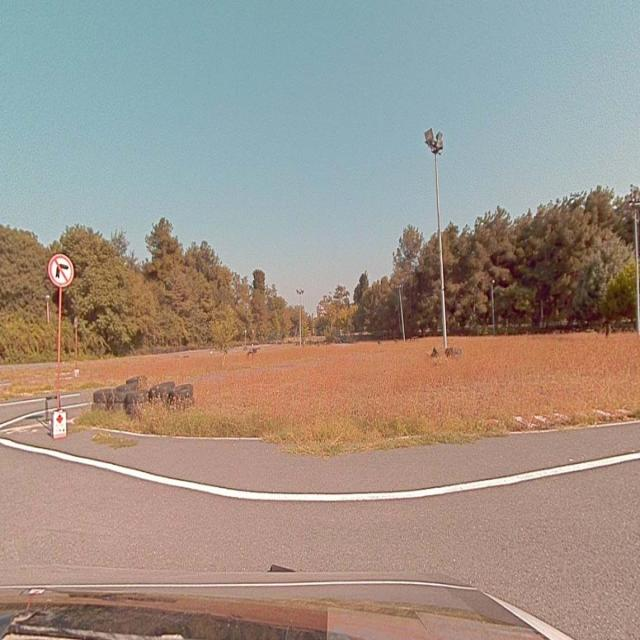sagadonulmez: (50, 254, 73, 286)
